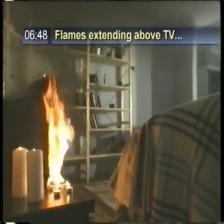fire: (37, 75, 77, 187)
